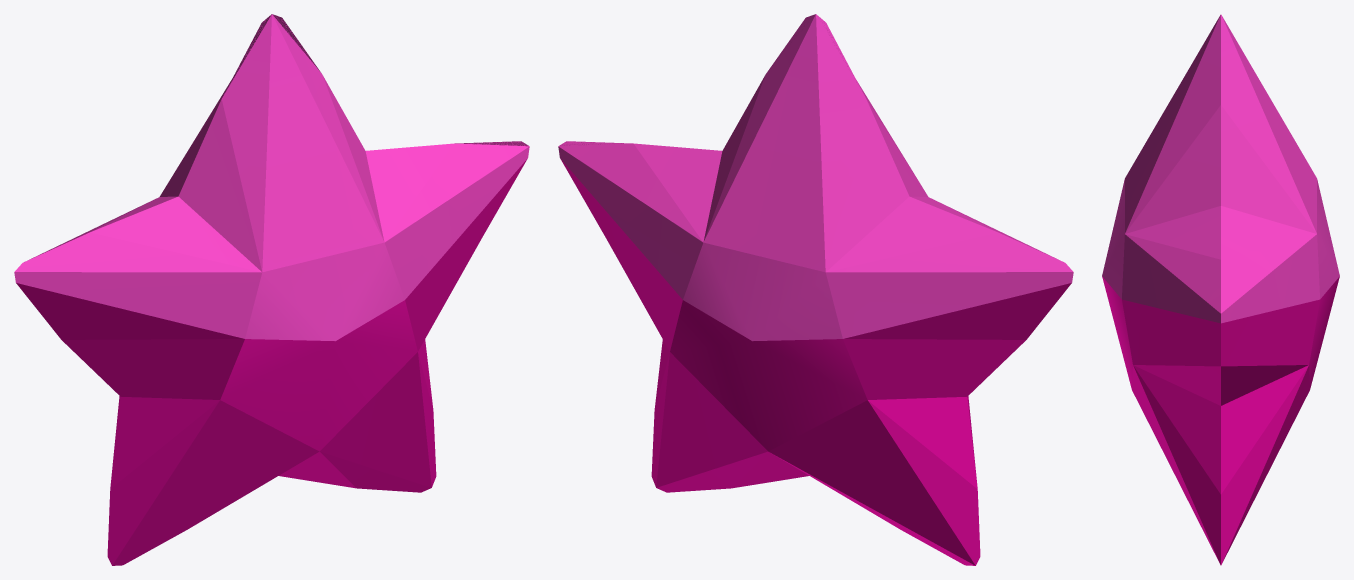
The model's file is item_star_002.fbx.
The picture shows the model from 3 angles, left to right: view 1: azimuth 30°, elevation 25°; view 2: azimuth 150°, elevation 25°; view 3: azimuth 270°, elevation 25°; orthographic projection. The views are drawn at different scales.
Visible parts, largest first — view 1: item_star_002; view 2: item_star_002; view 3: item_star_002.
Boxes of the visible parts, x1=… form: item_star_002: x1=14, y1=14, x2=529, y2=565; item_star_002: x1=558, y1=14, x2=1073, y2=565; item_star_002: x1=1102, y1=14, x2=1339, y2=565.
Bounding box in the file's own units: 99.66 × 95.16 × 42.66.
